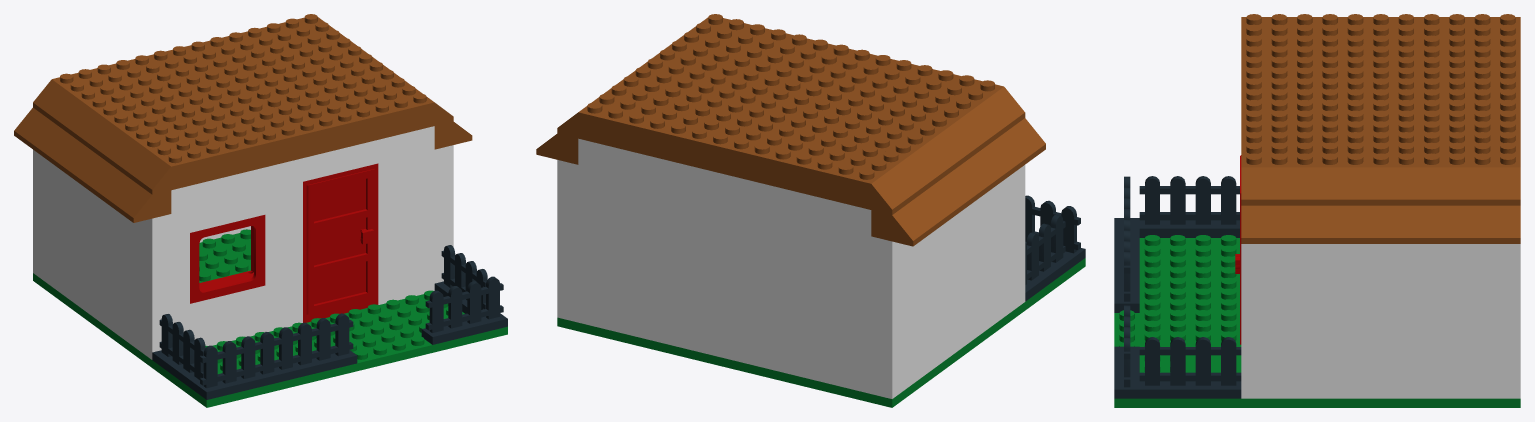
Rendered from housesimpletrans-lod0.fbx.
3 views of the same model, side by side, from view 1: azimuth 30°, elevation 25°; view 2: azimuth 150°, elevation 25°; view 3: azimuth 270°, elevation 25° (orthographic). The views are drawn at different scales.
Visible parts, largest first — view 1: Material_38, Material_1, Material_26, Material_21, Material_28; view 2: Material_1, Material_38, Material_28, Material_26; view 3: Material_38, Material_1, Material_28, Material_26, Material_21.
Part boxes in pixels (<box>): Material_38: <box>14,14,472,222</box>; Material_1: <box>33,126,453,359</box>; Material_26: <box>152,245,507,399</box>; Material_21: <box>190,163,378,322</box>; Material_28: <box>33,229,507,407</box>; Material_1: <box>557,138,1025,398</box>; Material_38: <box>536,14,1045,246</box>; Material_28: <box>557,258,1085,407</box>; Material_26: <box>1025,195,1085,301</box>; Material_38: <box>1241,14,1520,243</box>; Material_1: <box>1241,244,1520,398</box>; Material_28: <box>1114,235,1520,407</box>; Material_26: <box>1114,176,1241,398</box>; Material_21: <box>1235,155,1241,344</box>.
Size of the model in its own units: 14.4 by 8.18 by 12.8.
